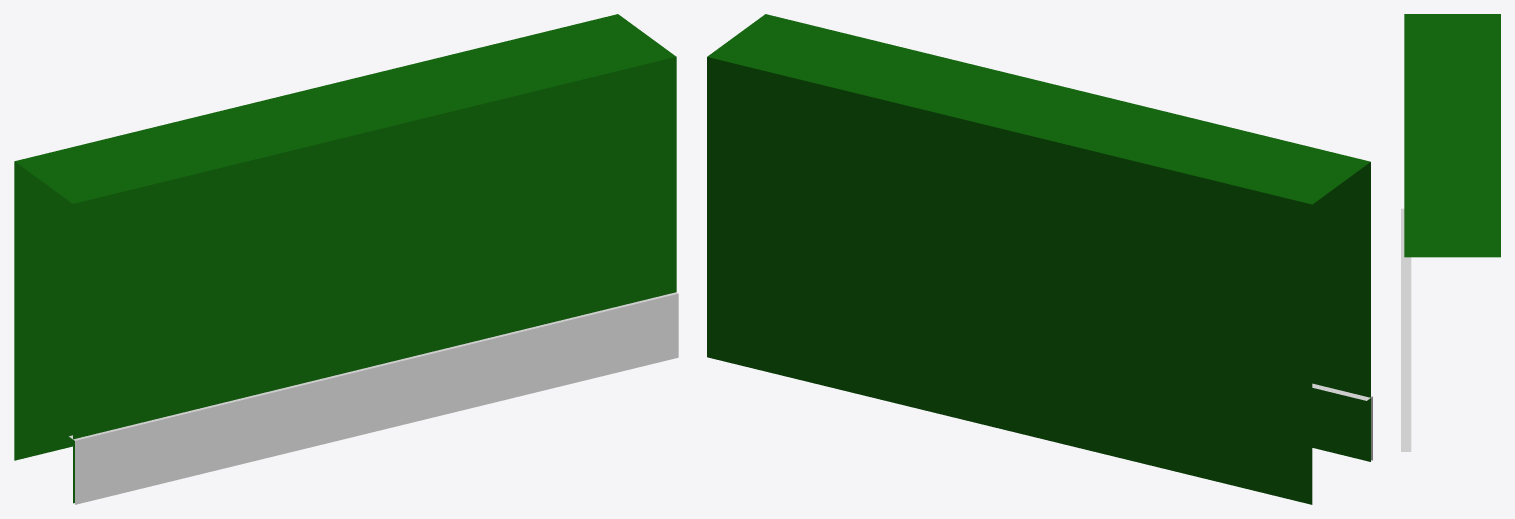
Rendered from wall_closed room 3.fbx.
3 renders of one model, left to right at view 1: azimuth 30°, elevation 25°; view 2: azimuth 150°, elevation 25°; view 3: azimuth 270°, elevation 25°, orthographic. The views are drawn at different scales.
Visible parts, largest first — view 1: wall_solid; view 2: wall_solid; view 3: wall_solid.
Part boxes in pixels (x1,y1,x2,y2): wall_solid: (14, 14, 678, 504); wall_solid: (707, 14, 1372, 504); wall_solid: (1401, 14, 1500, 451).
Size of the model in its own units: 12.5 by 5.93 by 2.17.
